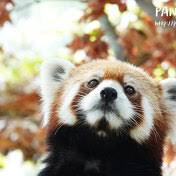redPanda: (34, 51, 176, 176)
